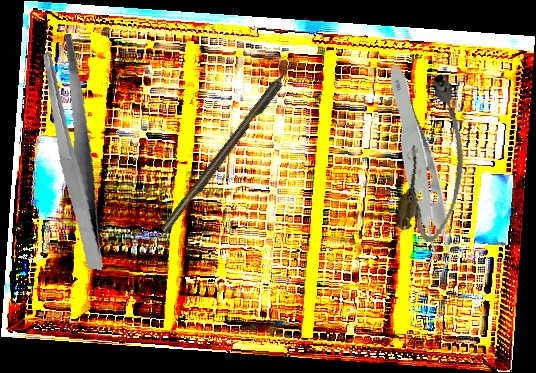Cannula: (392, 70, 482, 246)
Dressing Forceps: (21, 31, 128, 271)
Hook Surgical: (159, 55, 302, 235)
Tissue Forceps: (328, 64, 504, 290)
